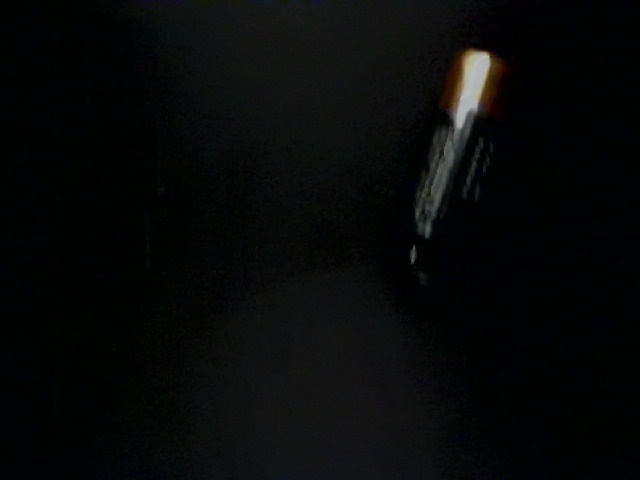QTLJ: (26, 1, 220, 157)
